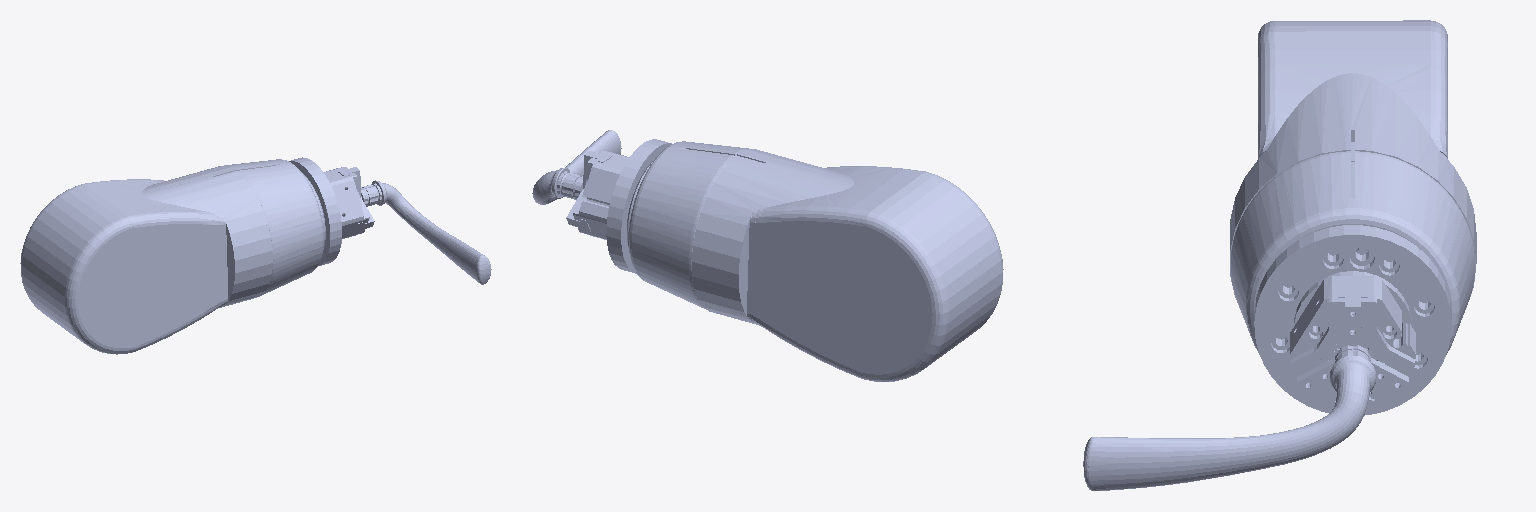
robot.urdf — resetrobotmetal:
<?xml version="1.0" encoding="utf-8"?>
<!-- This URDF was automatically created by SolidWorks to URDF Exporter! Originally created by [author] ([email redacted]) 
     Commit Version: 1.4.2-27-gc3b3358  Build Version: 1.4.6891.25992
     For more information, please see http://wiki.ros.org/sw_urdf_exporter -->
<robot
  name="resetrobotmetal">
  <link
    name="base_link">
    <inertial>
      <origin
        xyz="-0.048537 7.2262E-08 0.084952"
        rpy="0 0 0" />
      <mass
        value="21.435" />
      <inertia
        ixx="0.20713"
        ixy="2.0266E-07"
        ixz="0.0078532"
        iyy="0.40868"
        iyz="6.1248E-08"
        izz="0.50173" />
    </inertial>
    <visual>
      <origin
        xyz="0 0 0"
        rpy="0 0 0" />
      <geometry>
        <mesh
          filename="package://resetrobotmetal/meshes/base_link.STL" />
      </geometry>
      <material
        name="">
        <color
          rgba="0.79216 0.81961 0.93333 1" />
      </material>
    </visual>
    <collision>
      <origin
        xyz="0 0 0"
        rpy="0 0 0" />
      <geometry>
        <mesh
          filename="package://resetrobotmetal/meshes/base_link.STL" />
      </geometry>
    </collision>
  </link>
  <link
    name="link_1">
    <inertial>
      <origin
        xyz="0.058504 0.018758 0.15092"
        rpy="0 0 0" />
      <mass
        value="25.307" />
      <inertia
        ixx="0.32227"
        ixy="-0.047774"
        ixz="-0.10939"
        iyy="0.51973"
        iyz="-0.023513"
        izz="0.48216" />
    </inertial>
    <visual>
      <origin
        xyz="0 0 0"
        rpy="0 0 0" />
      <geometry>
        <mesh
          filename="package://resetrobotmetal/meshes/link_1.STL" />
      </geometry>
      <material
        name="">
        <color
          rgba="0.79216 0.81961 0.93333 1" />
      </material>
    </visual>
    <collision>
      <origin
        xyz="0 0 0"
        rpy="0 0 0" />
      <geometry>
        <mesh
          filename="package://resetrobotmetal/meshes/link_1.STL" />
      </geometry>
    </collision>
  </link>
  <joint
    name="joint_1"
    type="revolute">
    <origin
      xyz="0 0 0.181"
      rpy="0 0 0" />
    <parent
      link="base_link" />
    <child
      link="link_1" />
    <axis
      xyz="0 0 1" />
    <limit
      lower="-2.8798"
      upper="2.8798"
      effort="100"
      velocity="3" />
    <safety_controller
      k_velocity="0" />
  </joint>
  <link
    name="link_2">
    <inertial>
      <origin
        xyz="-0.016063 -0.28254 -0.079384"
        rpy="0 0 0" />
      <mass
        value="15.157" />
      <inertia
        ixx="0.85409"
        ixy="-0.0085112"
        ixz="-0.0041072"
        iyy="0.059494"
        iyz="-0.0050587"
        izz="0.86172" />
    </inertial>
    <visual>
      <origin
        xyz="0 0 0"
        rpy="0 0 0" />
      <geometry>
        <mesh
          filename="package://resetrobotmetal/meshes/link_2.STL" />
      </geometry>
      <material
        name="">
        <color
          rgba="0.79216 0.81961 0.93333 1" />
      </material>
    </visual>
    <collision>
      <origin
        xyz="0 0 0"
        rpy="0 0 0" />
      <geometry>
        <mesh
          filename="package://resetrobotmetal/meshes/link_2.STL" />
      </geometry>
    </collision>
  </link>
  <joint
    name="joint_2"
    type="revolute">
    <origin
      xyz="0.16933 -0.1005 0.21703"
      rpy="-1.57 0 0" />
    <parent
      link="link_1" />
    <child
      link="link_2" />
    <axis
      xyz="0 0 1" />
    <limit
      lower="-1.6581"
      upper="1.2217"
      effort="100"
      velocity="3" />
    <safety_controller
      k_velocity="0" />
  </joint>
  <link
    name="link_3">
    <inertial>
      <origin
        xyz="0.0062446 -0.075744 0.11093"
        rpy="0 0 0" />
      <mass
        value="9.9716" />
      <inertia
        ixx="0.10459"
        ixy="0.0035018"
        ixz="0.00046279"
        iyy="0.063616"
        iyz="-0.0056135"
        izz="0.10657" />
    </inertial>
    <visual>
      <origin
        xyz="0 0 0"
        rpy="0 0 0" />
      <geometry>
        <mesh
          filename="package://resetrobotmetal/meshes/link_3.STL" />
      </geometry>
      <material
        name="">
        <color
          rgba="0.79216 0.81961 0.93333 1" />
      </material>
    </visual>
    <collision>
      <origin
        xyz="0 0 0"
        rpy="0 0 0" />
      <geometry>
        <mesh
          filename="package://resetrobotmetal/meshes/link_3.STL" />
      </geometry>
    </collision>
  </link>
  <joint
    name="joint_3"
    type="revolute">
    <origin
      xyz="0 -0.65 0"
      rpy="0 0 0" />
    <parent
      link="link_2" />
    <child
      link="link_3" />
    <axis
      xyz="0 0 1" />
    <limit
      lower="-1.4835"
      upper="1.6581"
      effort="100"
      velocity="3" />
    <safety_controller
      k_velocity="0" />
  </joint>
  <link
    name="link_4">
    <inertial>
      <origin
        xyz="1.0311E-07 -0.0077856 0.27219"
        rpy="0 0 0" />
      <mass
        value="5.2559" />
      <inertia
        ixx="0.10349"
        ixy="1.103E-10"
        ixz="2.5492E-09"
        iyy="0.09162"
        iyz="0.0033244"
        izz="0.020021" />
    </inertial>
    <visual>
      <origin
        xyz="0 0 0"
        rpy="0 0 0" />
      <geometry>
        <mesh
          filename="package://resetrobotmetal/meshes/link_4.STL" />
      </geometry>
      <material
        name="">
        <color
          rgba="0.79216 0.81961 0.93333 1" />
      </material>
    </visual>
    <collision>
      <origin
        xyz="0 0 0"
        rpy="0 0 0" />
      <geometry>
        <mesh
          filename="package://resetrobotmetal/meshes/link_4.STL" />
      </geometry>
    </collision>
  </link>
  <joint
    name="joint_4"
    type="revolute">
    <origin
      xyz="0.131 -0.15574 0.1035"
      rpy="-1.57 0 -1.57" />
    <parent
      link="link_3" />
    <child
      link="link_4" />
    <axis
      xyz="0 0 1" />
    <limit
      lower="-3.1416"
      upper="3.1416"
      effort="100"
      velocity="3" />
    <safety_controller
      k_velocity="0" />
  </joint>
  <link
    name="link_5">
    <inertial>
      <origin
        xyz="0.0010269 0.030968 -2.2367E-10"
        rpy="0 0 0" />
      <mass
        value="1.2009" />
      <inertia
        ixx="0.003095"
        ixy="-5.2043E-05"
        ixz="5.0414E-10"
        iyy="0.0015215"
        iyz="-1.6327E-11"
        izz="0.00339" />
    </inertial>
    <visual>
      <origin
        xyz="0 0 0"
        rpy="0 0 0" />
      <geometry>
        <mesh
          filename="package://resetrobotmetal/meshes/link_5.STL" />
      </geometry>
      <material
        name="">
        <color
          rgba="0.79216 0.81961 0.93333 1" />
      </material>
    </visual>
    <collision>
      <origin
        xyz="0 0 0"
        rpy="0 0 0" />
      <geometry>
        <mesh
          filename="package://resetrobotmetal/meshes/link_5.STL" />
      </geometry>
    </collision>
  </link>
  <joint
    name="joint_5"
    type="revolute">
    <origin
      xyz="0 0 0.424"
      rpy="1.57 0 0" />
    <parent
      link="link_4" />
    <child
      link="link_5" />
    <axis
      xyz="0 0 1" />
    <limit
      lower="-2.0071"
      upper="2.0071"
      effort="100"
      velocity="3" />
    <safety_controller
      k_velocity="0" />
  </joint>
  <link
    name="link_6">
    <inertial>
      <origin
        xyz="0.00077466 6.605E-16 0.023833"
        rpy="0 0 0" />
      <mass
        value="0.33714" />
      <inertia
        ixx="0.00025264"
        ixy="-6.2443E-08"
        ixz="3.5945E-06"
        iyy="0.00025233"
        iyz="2.0826E-09"
        izz="0.00036265" />
    </inertial>
    <visual>
      <origin
        xyz="0 0 0"
        rpy="0 0 0" />
      <geometry>
        <mesh
          filename="package://resetrobotmetal/meshes/link_6.STL" />
      </geometry>
      <material
        name="">
        <color
          rgba="0.79216 0.81961 0.93333 1" />
      </material>
    </visual>
    <collision>
      <origin
        xyz="0 0 0"
        rpy="0 0 0" />
      <geometry>
        <mesh
          filename="package://resetrobotmetal/meshes/link_6.STL" />
      </geometry>
    </collision>
  </link>
  <joint
    name="joint_6"
    type="revolute">
    <origin
      xyz="0.0036667 0.10994 0"
      rpy="-1.57 0 0" />
    <parent
      link="link_5" />
    <child
      link="link_6" />
    <axis
      xyz="0.033333 0 0.99944" />
    <limit
      lower="-6.2832"
      upper="6.2832"
      effort="100"
      velocity="3" />
    <safety_controller
      k_velocity="0" />
  </joint>
  <link
    name="last_link">
    <inertial>
      <origin
        xyz="-1.6876E-05 -2.9501E-05 0.0067938"
        rpy="0 0 0" />
      <mass
        value="0.046343" />
      <inertia
        ixx="1.9745E-05"
        ixy="-1.1087E-07"
        ixz="2.1962E-09"
        iyy="1.8881E-05"
        iyz="3.8641E-09"
        izz="3.727E-05" />
    </inertial>
    <visual>
      <origin
        xyz="0 0 0"
        rpy="0 0 0" />
      <geometry>
        <mesh
          filename="package://resetrobotmetal/meshes/last_link.STL" />
      </geometry>
      <material
        name="">
        <color
          rgba="0.79216 0.81961 0.93333 1" />
      </material>
    </visual>
    <collision>
      <origin
        xyz="0 0 0"
        rpy="0 0 0" />
      <geometry>
        <mesh
          filename="package://resetrobotmetal/meshes/last_link.STL" />
      </geometry>
    </collision>
  </link>
  <joint
    name="last_joint"
    type="fixed">
    <origin
      xyz="0.0018 0 0.05397"
      rpy="0 0.03334 0" />
    <parent
      link="link_6" />
    <child
      link="last_link" />
    <axis
      xyz="0 0 0" />
    <safety_controller
      k_velocity="0" />
  </joint>
  <link
    name="metal_link">
    <inertial>
      <origin
        xyz="-0.019331 0.048862 0.035558"
        rpy="0 0 0" />
      <mass
        value="0.020605" />
      <inertia
        ixx="3.1408E-05"
        ixy="6.3105E-06"
        ixz="1.9318E-06"
        iyy="4.6486E-06"
        iyz="-6.0887E-06"
        izz="3.1434E-05" />
    </inertial>
    <visual>
      <origin
        xyz="0 0 0"
        rpy="0 0 0" />
      <geometry>
        <mesh
          filename="package://resetrobotmetal/meshes/metal_link.STL" />
      </geometry>
      <material
        name="">
        <color
          rgba="0.79216 0.81961 0.93333 1" />
      </material>
    </visual>
    <collision>
      <origin
        xyz="0 0 0"
        rpy="0 0 0" />
      <geometry>
        <mesh
          filename="package://resetrobotmetal/meshes/metal_link.STL" />
      </geometry>
    </collision>
  </link>
  <joint
    name="metal_joint"
    type="fixed">
    <origin
      xyz="-4.4615E-05 5.8841E-05 0.0472"
      rpy="0 0 0" />
    <parent
      link="last_link" />
    <child
      link="metal_link" />
    <axis
      xyz="0 0 0" />
    <safety_controller
      k_velocity="0" />
  </joint>
</robot>

--- What the picture shows (computed from the rendered views, not written in the file) ---
3 views of the same robot in one strip: view 1: azimuth 30°, elevation 25°; view 2: azimuth 150°, elevation 25°; view 3: azimuth 270°, elevation 25° (orthographic).
Model resetrobotmetal with 9 links and 8 joints (6 revolute, 2 fixed), rooted at base_link, posed every joint at zero.
Links seen in each view (by area): view 1: link_5, link_6, last_link, metal_link; view 2: link_5, link_6, last_link, metal_link; view 3: link_5, last_link, link_6, metal_link.
Link boxes in pixels (bbox=[...]): link_5: bbox=[20, 165, 272, 354]; link_6: bbox=[226, 159, 325, 294]; last_link: bbox=[289, 157, 374, 265]; metal_link: bbox=[361, 180, 491, 284]; link_5: bbox=[692, 149, 1003, 381]; link_6: bbox=[627, 141, 748, 309]; last_link: bbox=[566, 139, 671, 273]; metal_link: bbox=[532, 130, 621, 204]; link_5: bbox=[1230, 20, 1476, 307]; last_link: bbox=[1254, 225, 1451, 415]; link_6: bbox=[1231, 151, 1474, 354]; metal_link: bbox=[1083, 345, 1376, 490].
Bounding box of the posed robot: 0.3157 × 0.159 × 0.11 m (x, y, z).
4 mesh visuals loaded from 9 distinct referenced files (4 binary STL); not drawn: 5 (reference not matched to a file when rendering).